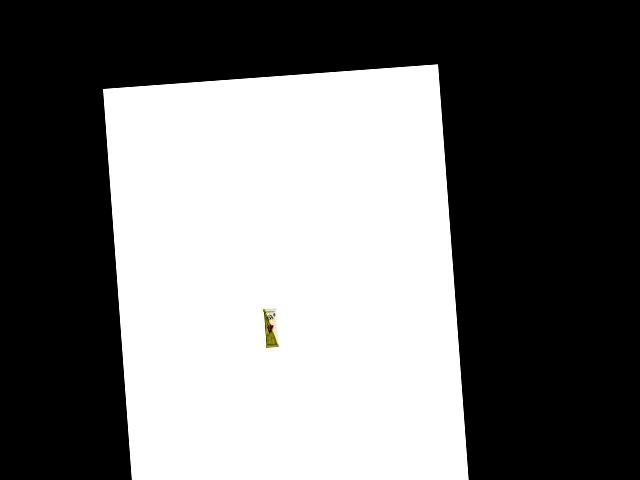chocolate: (259, 305, 281, 350)
